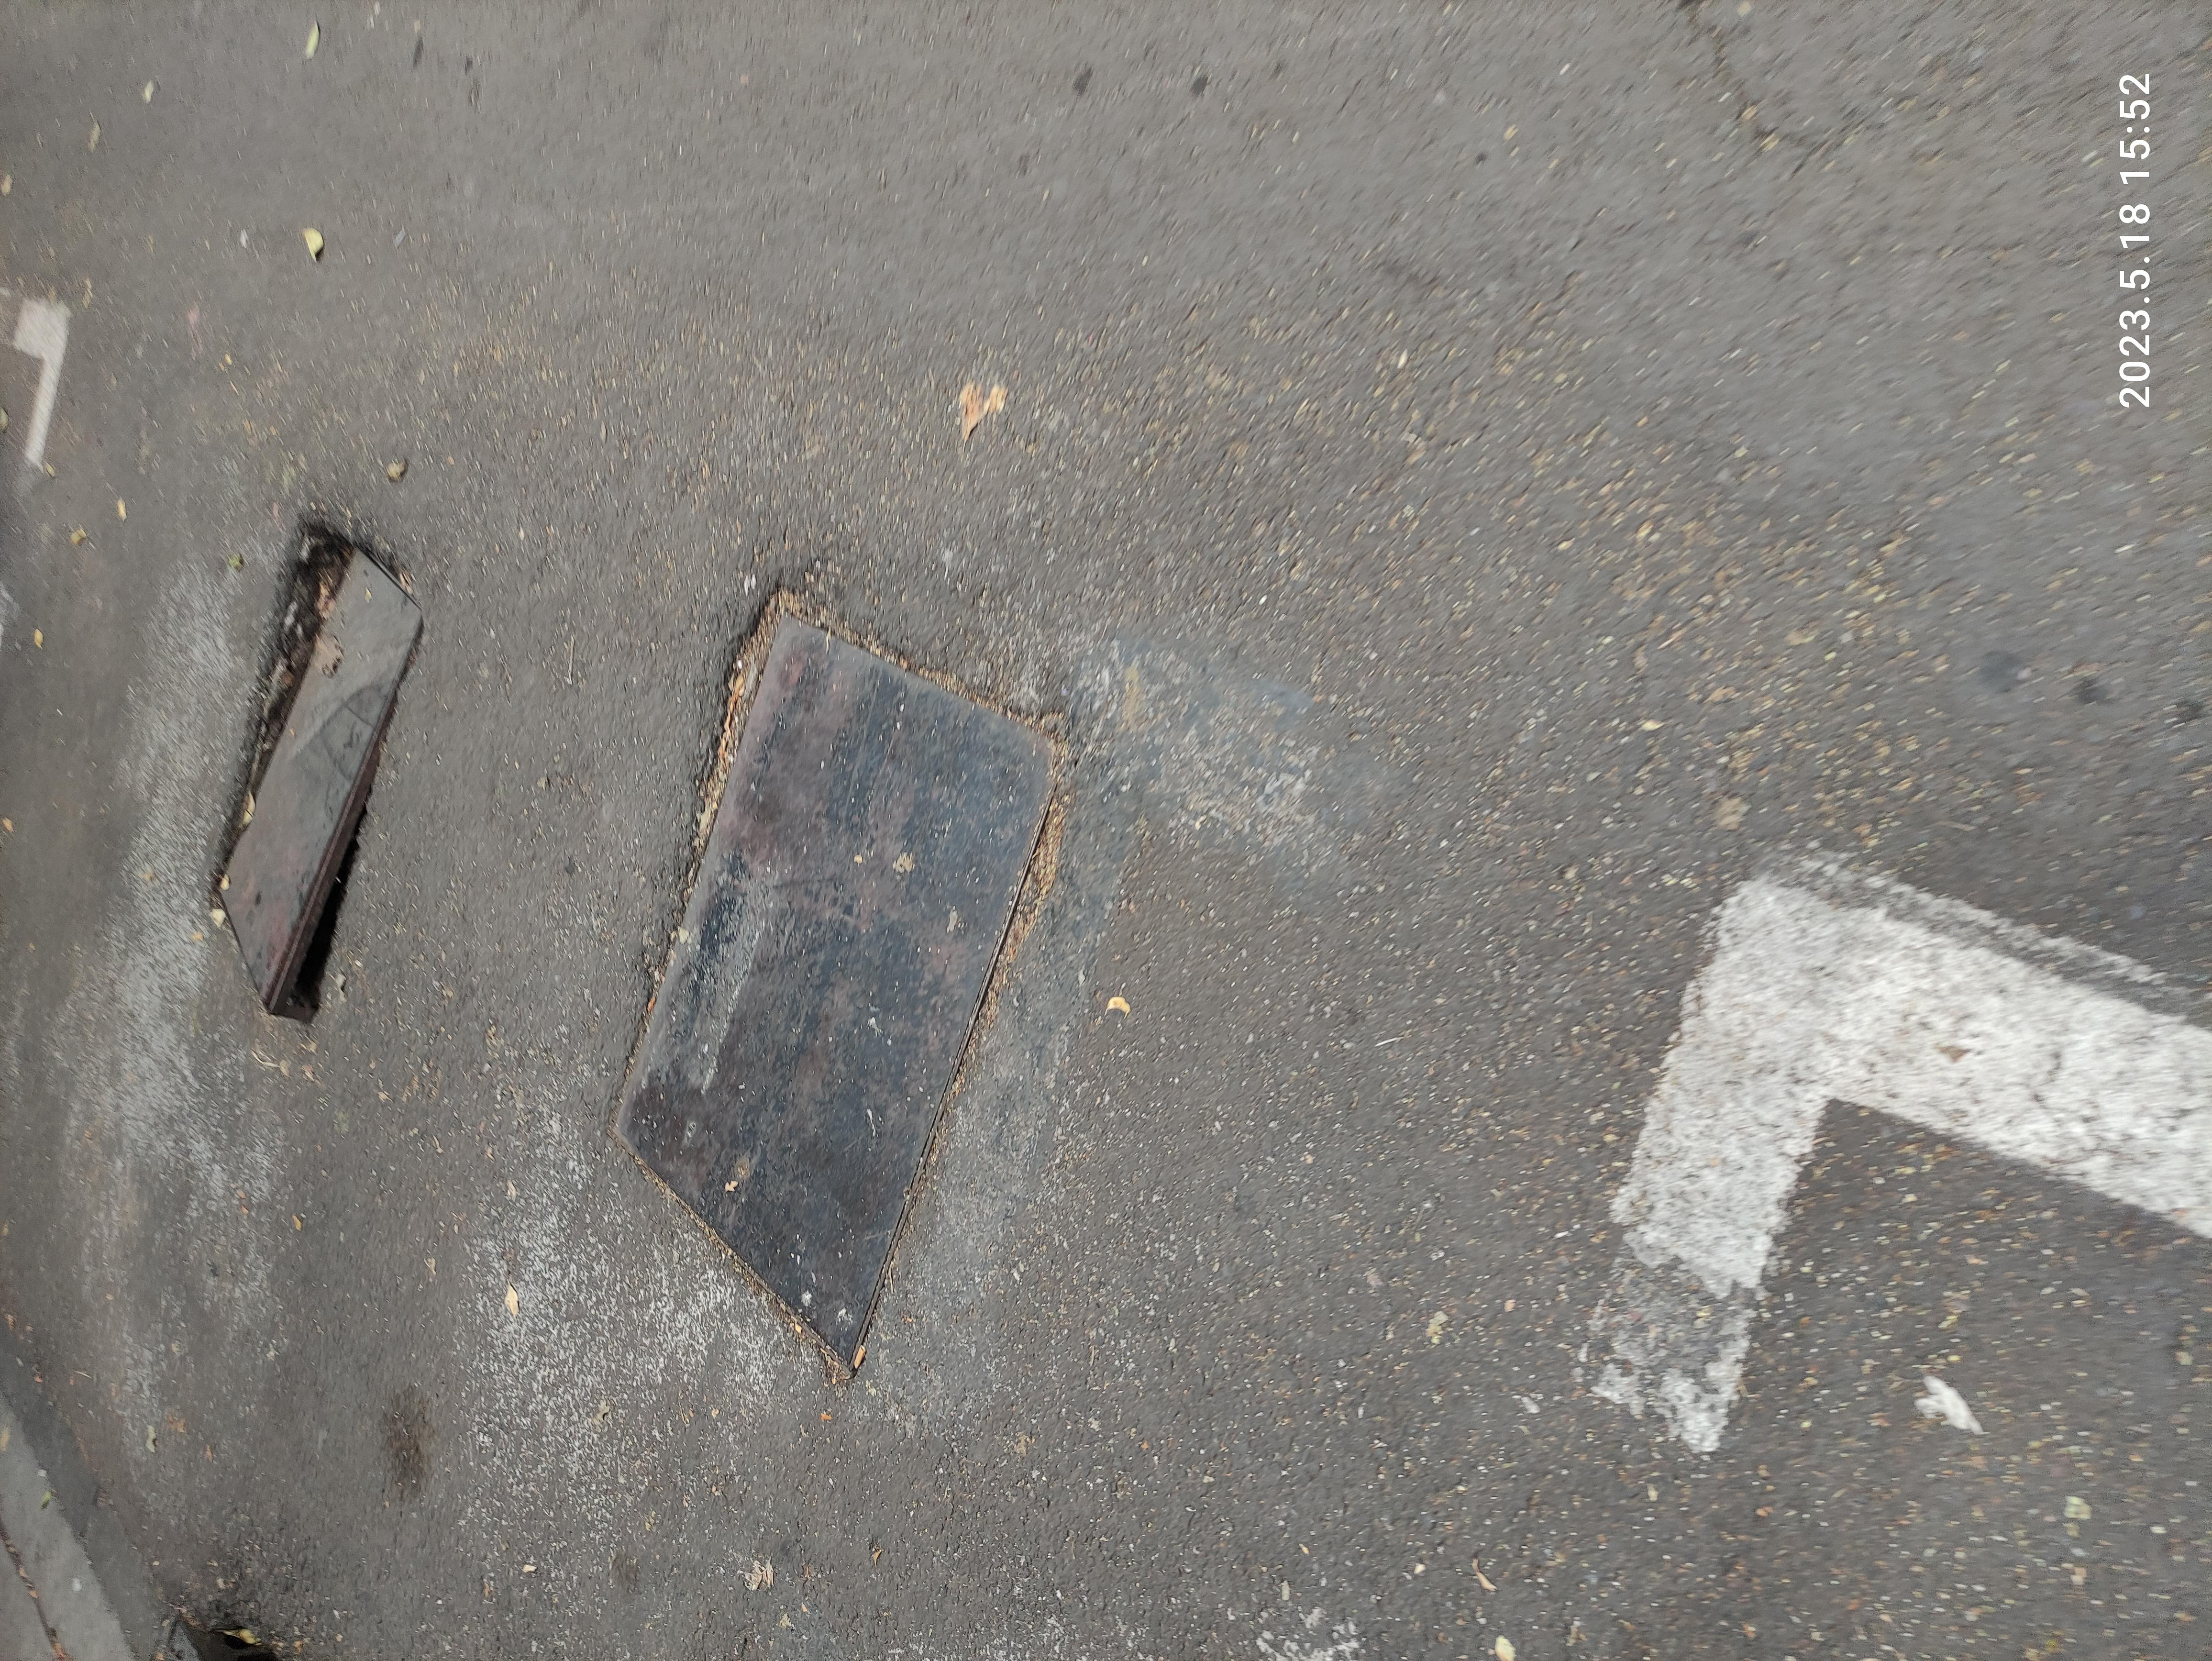pothole: (846, 143, 1549, 332)
